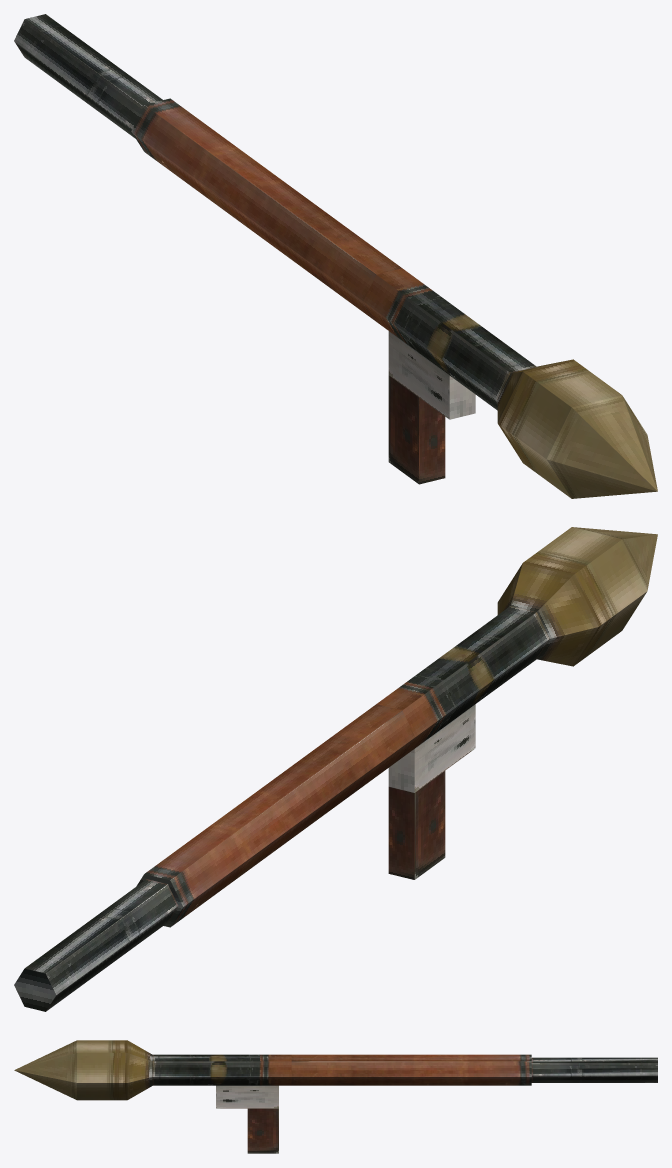
File: ps1_-_rocket_launcher.glb
The picture shows the model from 3 angles, top to bottom: view 1: azimuth 30°, elevation 25°; view 2: azimuth 150°, elevation 25°; view 3: azimuth 270°, elevation 25°; orthographic projection. The views are drawn at different scales.
Visible parts, largest first — view 1: rpg2_Material #25_0, rocket; view 2: rpg2_Material #25_0, rocket; view 3: rpg2_Material #25_0, rocket.
Boxes of the visible parts, <box> form: rpg2_Material #25_0: <box>14,14,536,484</box>; rocket: <box>497,359,657,498</box>; rpg2_Material #25_0: <box>14,606,549,1011</box>; rocket: <box>497,527,657,666</box>; rpg2_Material #25_0: <box>152,1054,657,1153</box>; rocket: <box>14,1040,152,1100</box>.
Bounding box in the file's own units: 4.77 × 9.07 × 50.99.
Materials: 2 (2 with a texture image).
